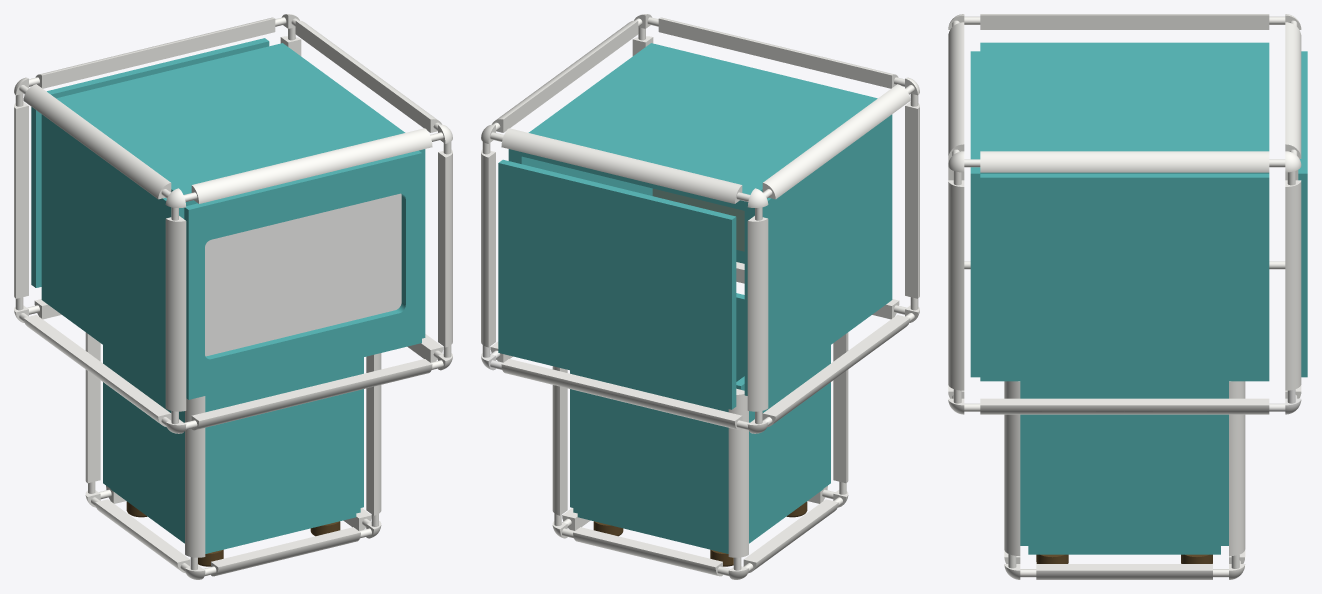
Rendered from CBL2.gltf.
3 renders of one model, left to right at view 1: azimuth 30°, elevation 25°; view 2: azimuth 150°, elevation 25°; view 3: azimuth 270°, elevation 25°, orthographic. The views are drawn at different scales.
Visible parts, largest first — view 1: Front, Front (1), glass, Body39, Body36, Body69, Body41, Body26, Body68, Body66, Body61, Body70 (+10 smaller); view 2: Front, Body26, Body38, Body36, Body66, Body55, Body67, Body69, Body61, Body72, Body58, Body41 (+10 smaller); view 3: Front, Body37, Body62, Body64, Body61, Body52, Body58, Front (1), Body80, Body73, Body74, Body26 (+7 smaller).
Part boxes in pixels (x1,y1,x2,y2): Front: (41, 43, 425, 390); Front (1): (184, 150, 421, 399); glass: (205, 193, 401, 356); Body39: (205, 358, 360, 550); Body36: (103, 345, 184, 542); Body69: (191, 128, 432, 203); Body41: (165, 216, 186, 411); Body26: (31, 38, 269, 287); Body68: (191, 359, 432, 430); Body66: (35, 17, 275, 88); Body61: (23, 84, 171, 199); Body70: (185, 396, 205, 557); Front: (508, 43, 892, 395); Body26: (498, 159, 736, 409); Body38: (573, 371, 728, 550); Body36: (736, 345, 830, 542); Body66: (501, 128, 742, 203); Body55: (747, 216, 768, 411); Body67: (501, 359, 742, 430); Body69: (658, 17, 898, 88); Body61: (762, 84, 910, 199); Body72: (728, 388, 748, 557); Body58: (481, 149, 495, 347); Body41: (905, 102, 919, 298); Front: (980, 42, 1269, 381); Body37: (1028, 381, 1220, 549); Body62: (980, 151, 1269, 172); Body64: (980, 398, 1269, 414); Body61: (980, 14, 1269, 29); Body52: (948, 180, 964, 390); Body58: (1285, 180, 1301, 390); Front (1): (970, 51, 980, 377); Body80: (1036, 564, 1212, 579); Body73: (1229, 381, 1245, 556); Body74: (1004, 381, 1020, 555); Body26: (1298, 51, 1307, 377).
Bounding box in the file's own units: 0.22 × 0.31 × 0.224.
